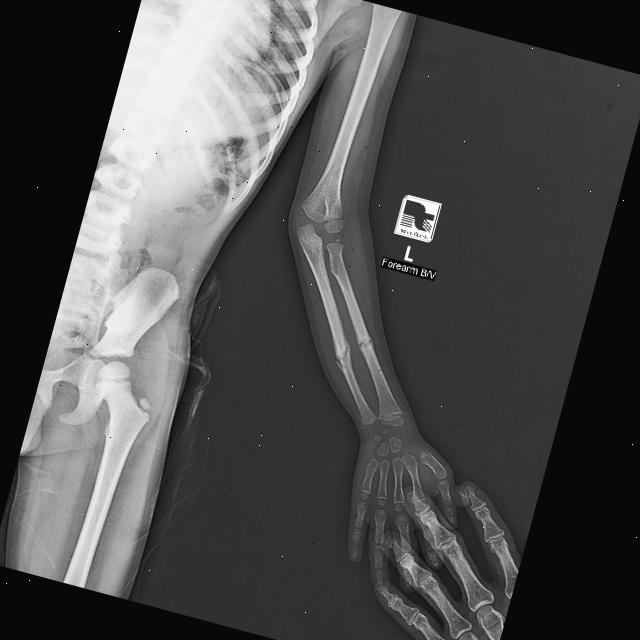Fracture: (331, 333, 355, 376), (350, 329, 376, 355)
